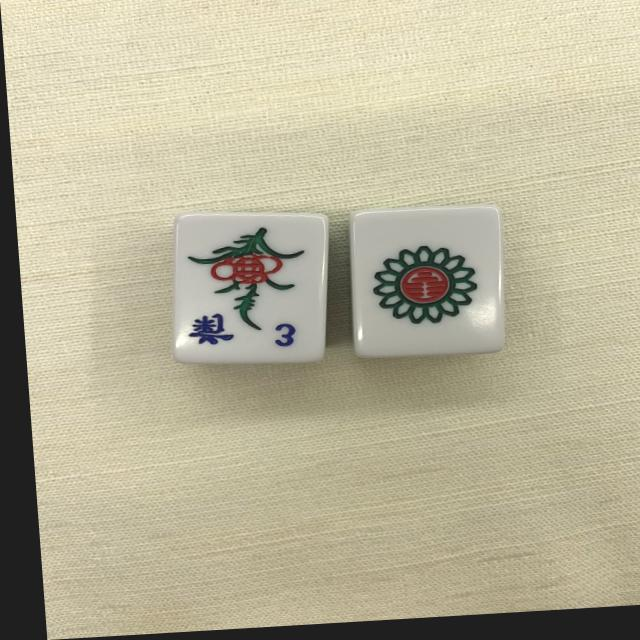f3: (164, 208, 339, 373)
t1: (349, 205, 511, 363)
